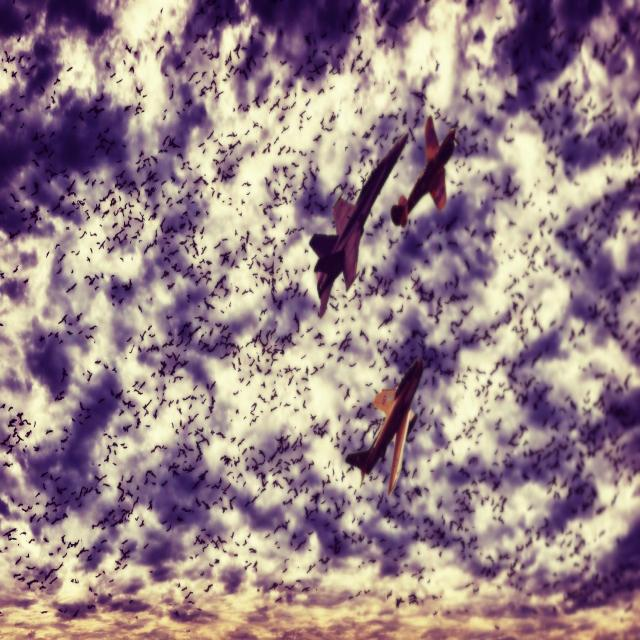airplane: (308, 130, 408, 319), (345, 356, 423, 496), (390, 115, 458, 228)
